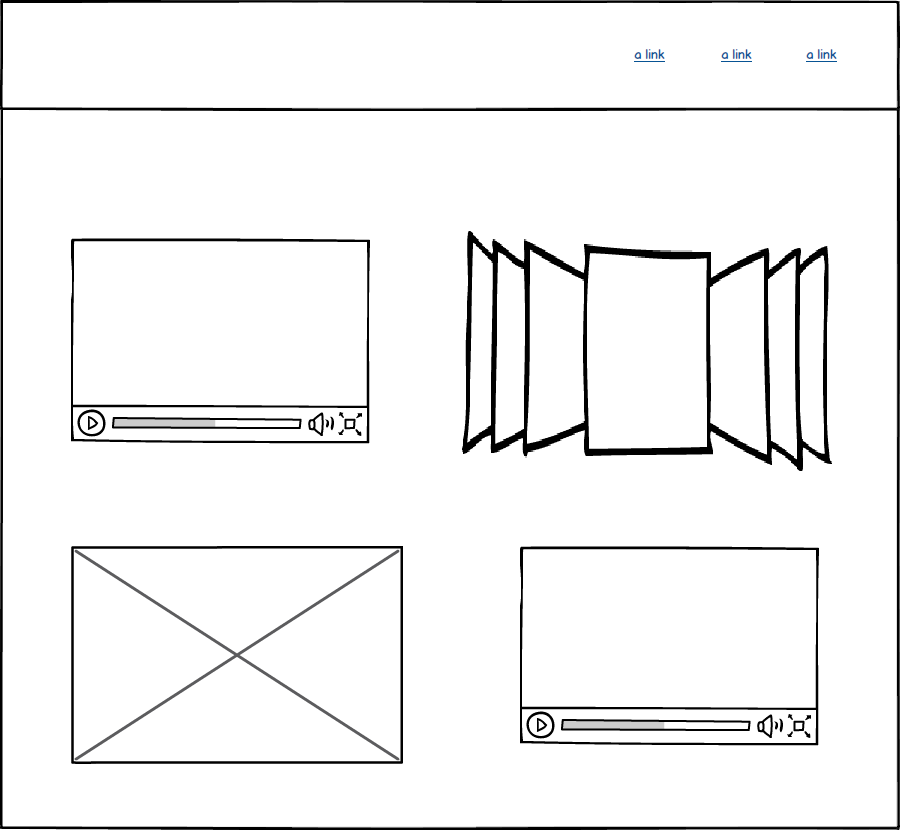image: (63, 540, 406, 768)
navlink: (799, 40, 845, 73), (713, 40, 763, 69), (623, 40, 674, 68)
slideshow: (450, 223, 851, 480)
video: (64, 231, 375, 450), (512, 540, 828, 754)
